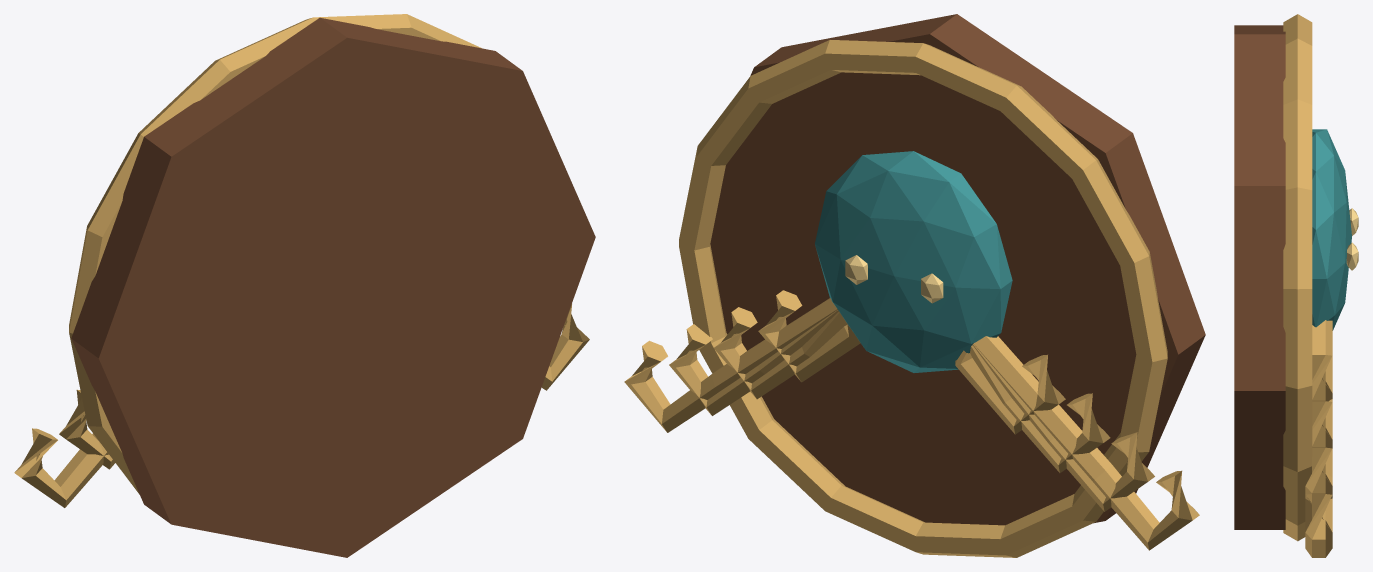
Rendered from kraken.glb.
3 renders of one model, left to right at view 1: azimuth 30°, elevation 25°; view 2: azimuth 150°, elevation 25°; view 3: azimuth 270°, elevation 25°, orthographic. The views are drawn at different scales.
Parts seen in each view (by area): view 1: Octagonal crest back, Brass crest rim, Curled kraken arm.003, Curled kraken arm.007, Curled kraken arm.002; view 2: Octagonal crest back, Brass crest rim, Kraken mantle, Curled kraken arm.003, Curled kraken arm.007, Curled kraken arm.006, Curled kraken arm.005, Curled kraken arm.002, Curled kraken arm.001, Curled kraken arm, Curled kraken arm.004; view 3: Octagonal crest back, Brass crest rim, Kraken mantle, Curled kraken arm.007, Curled kraken arm.006, Curled kraken arm.005, Curled kraken arm.004, Kraken eye.001, Kraken eye.
Boxes of the visible parts, left/top/right/bottom form: Octagonal crest back: left=71, top=17, right=595, bottom=557; Brass crest rim: left=69, top=14, right=481, bottom=494; Curled kraken arm.003: left=14, top=428, right=108, bottom=507; Curled kraken arm.007: left=541, top=304, right=589, bottom=390; Curled kraken arm.002: left=59, top=389, right=115, bottom=469; Octagonal crest back: left=710, top=14, right=1205, bottom=525; Brass crest rim: left=679, top=40, right=1167, bottom=557; Kraken mantle: left=815, top=151, right=1012, bottom=372; Curled kraken arm.003: left=973, top=336, right=1199, bottom=550; Curled kraken arm.007: left=624, top=298, right=837, bottom=432; Curled kraken arm.006: left=669, top=310, right=838, bottom=415; Curled kraken arm.005: left=714, top=307, right=847, bottom=399; Curled kraken arm.002: left=972, top=344, right=1154, bottom=511; Curled kraken arm.001: left=970, top=345, right=1110, bottom=472; Curled kraken arm: left=955, top=350, right=1065, bottom=434; Curled kraken arm.004: left=758, top=290, right=860, bottom=382; Octagonal crest back: left=1234, top=25, right=1285, bottom=529; Brass crest rim: left=1283, top=14, right=1312, bottom=541; Kraken mantle: left=1312, top=129, right=1351, bottom=330; Curled kraken arm.007: left=1305, top=320, right=1332, bottom=557; Curled kraken arm.006: left=1305, top=447, right=1332, bottom=500; Curled kraken arm.005: left=1312, top=401, right=1332, bottom=448; Curled kraken arm.004: left=1312, top=355, right=1332, bottom=401; Kraken eye.001: left=1346, top=242, right=1358, bottom=270; Kraken eye: left=1349, top=208, right=1358, bottom=235.
Size of the model in its own units: 2.04 by 1.78 by 0.4113.
